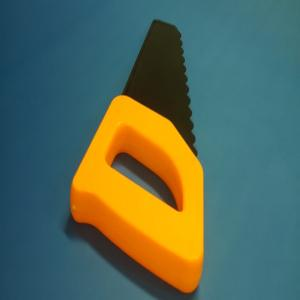serrote: (69, 17, 205, 295)
